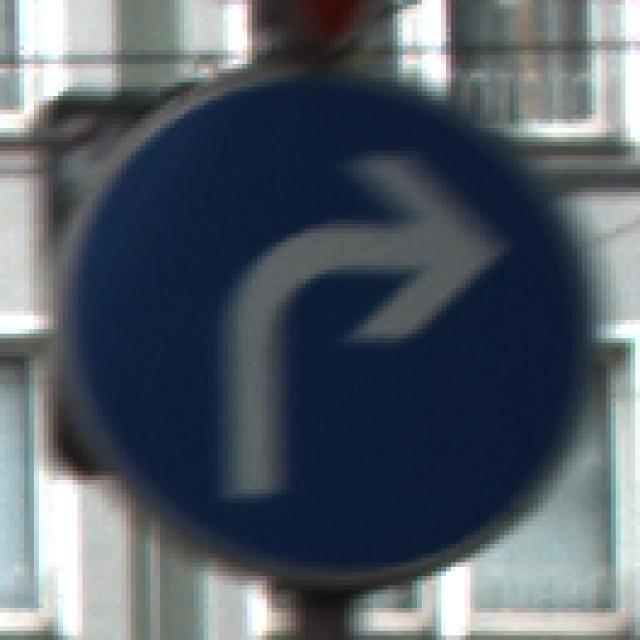compulsary turn right ahead: (74, 82, 593, 580)
